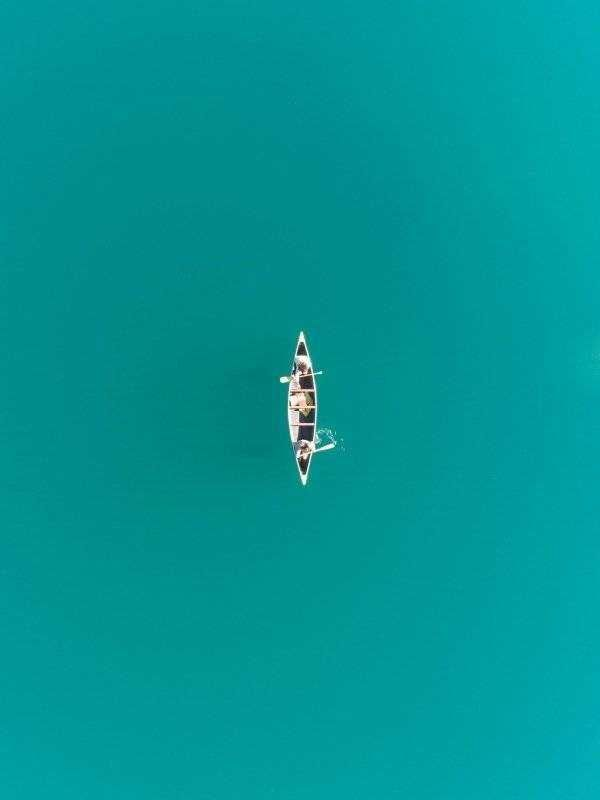kayaker: (276, 330, 339, 488)
